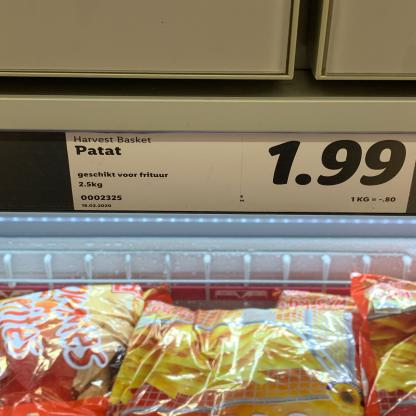prtg: (65, 132, 415, 215)
